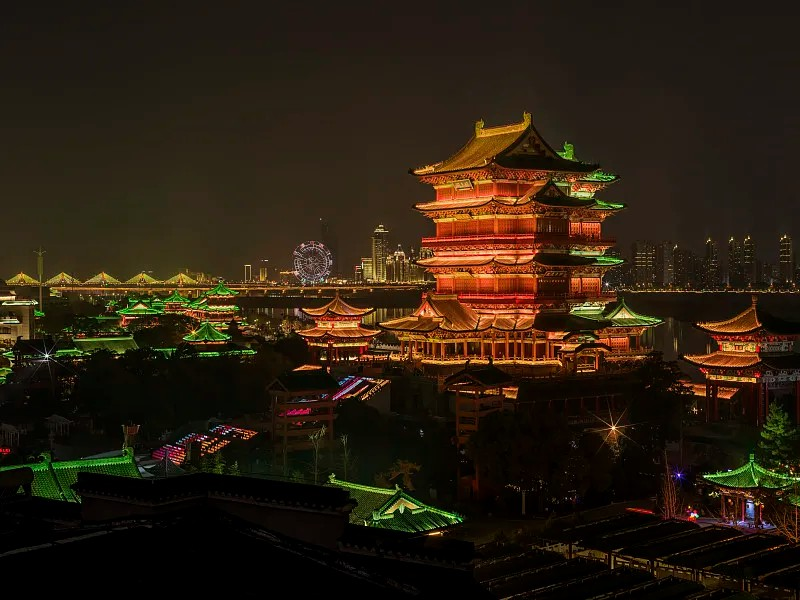Teng: (378, 111, 667, 355)
